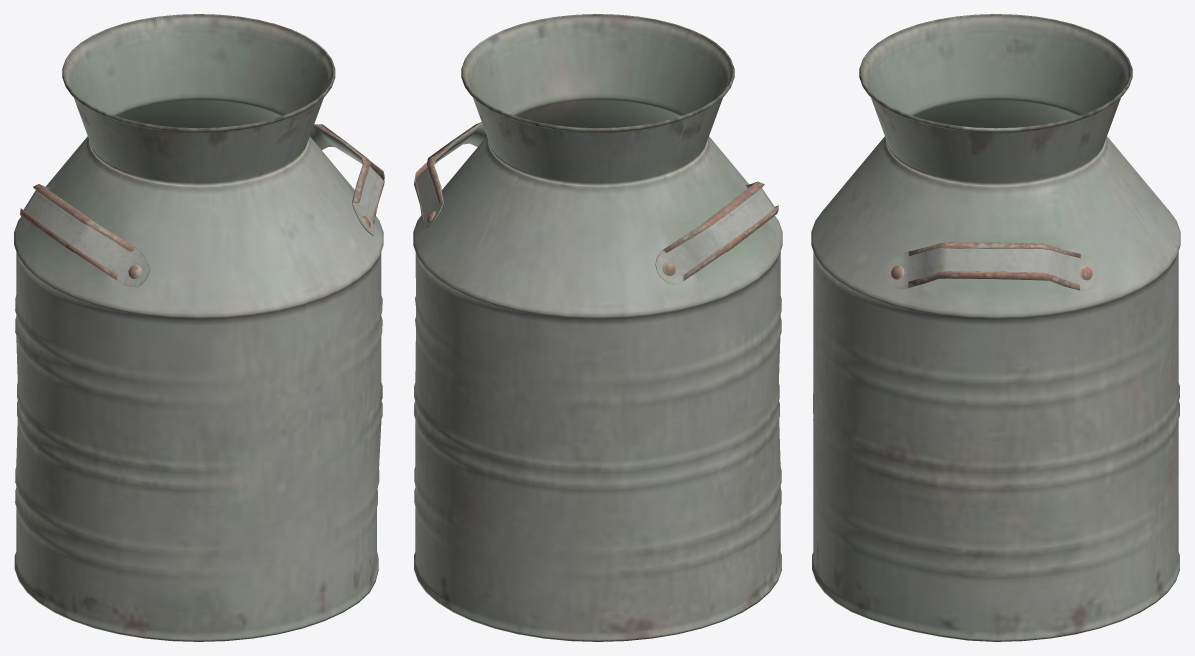
3 views of the same model, side by side, from view 1: azimuth 30°, elevation 25°; view 2: azimuth 150°, elevation 25°; view 3: azimuth 270°, elevation 25° (orthographic).
Parts seen in each view (by area): view 1: metal_jug; view 2: metal_jug; view 3: metal_jug.
Boxes of the visible parts, x1,y1,x2,y2 form: metal_jug: (14, 14, 384, 641); metal_jug: (413, 14, 782, 641); metal_jug: (811, 14, 1180, 641).
Size of the model in its own units: 0.1968 by 0.2875 by 0.1955.
Materials: 1 (1 with a texture image).
